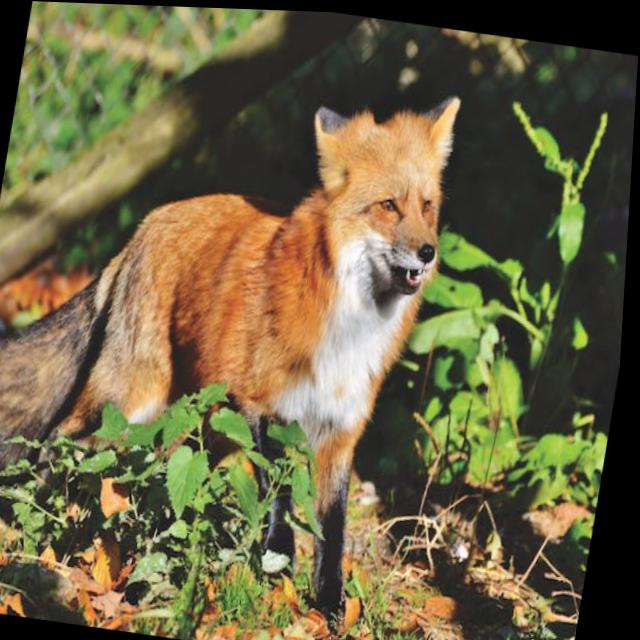cat: (0, 12, 476, 640)
